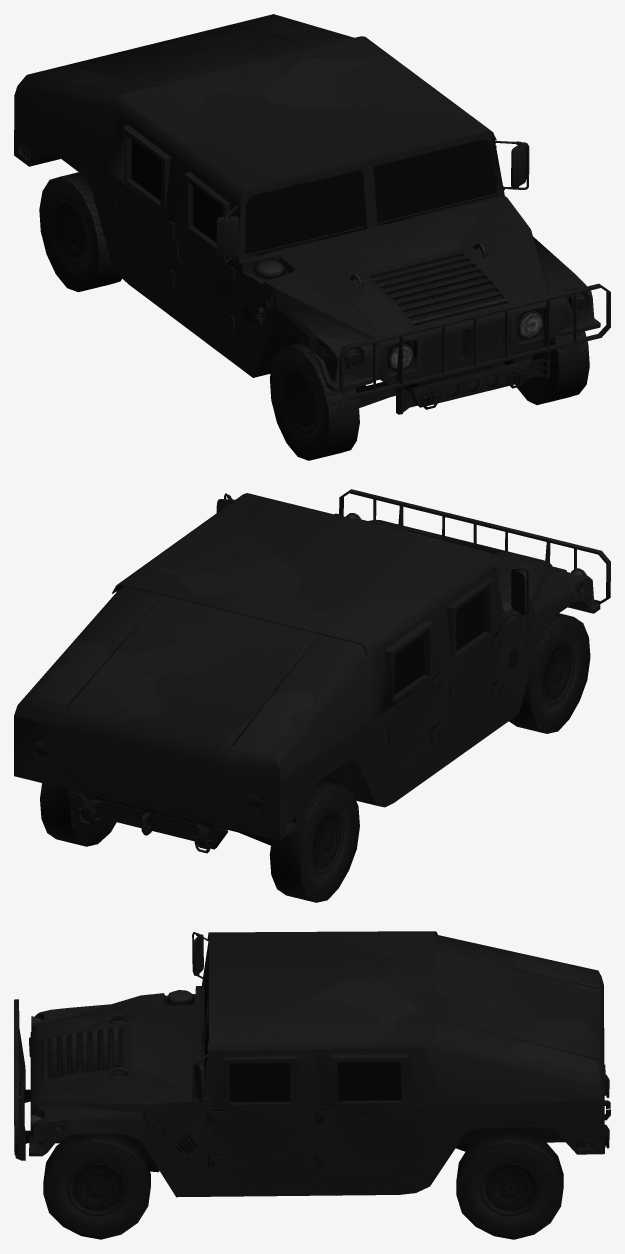
Rendered from JEEP_Explosion.FBX.
The picture shows the model from 3 angles, top to bottom: view 1: azimuth 30°, elevation 25°; view 2: azimuth 150°, elevation 25°; view 3: azimuth 270°, elevation 25°; orthographic projection. The views are drawn at different scales.
Parts seen in each view (by area): view 1: body, front wheels, rear wheels; view 2: body, rear wheels, front wheels; view 3: body, rear wheels, front wheels.
Boxes of the visible parts, left/top/right/bottom form: body: left=14, top=14, right=610, bottom=414; front wheels: left=270, top=331, right=589, bottom=460; rear wheels: left=39, top=172, right=122, bottom=292; body: left=14, top=489, right=610, bottom=853; rear wheels: left=40, top=780, right=359, bottom=902; front wheels: left=509, top=613, right=590, bottom=733; body: left=14, top=931, right=610, bottom=1197; rear wheels: left=456, top=1129, right=563, bottom=1239; front wheels: left=43, top=1133, right=150, bottom=1239.
Size of the model in its own units: 267 by 184 by 497.
